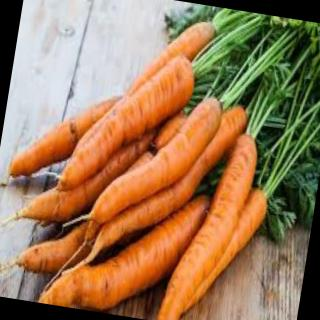Wortel: (53, 30, 208, 211), (90, 82, 225, 244), (156, 125, 264, 320)
